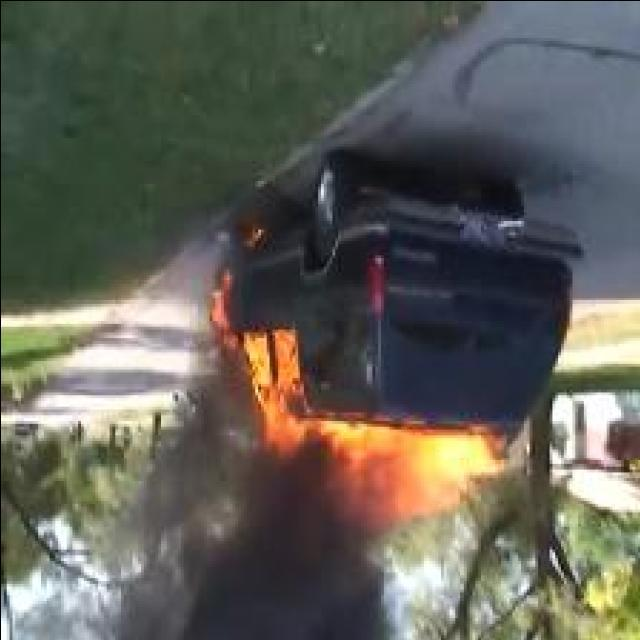Fire: (242, 327, 502, 519), (210, 273, 236, 350)
